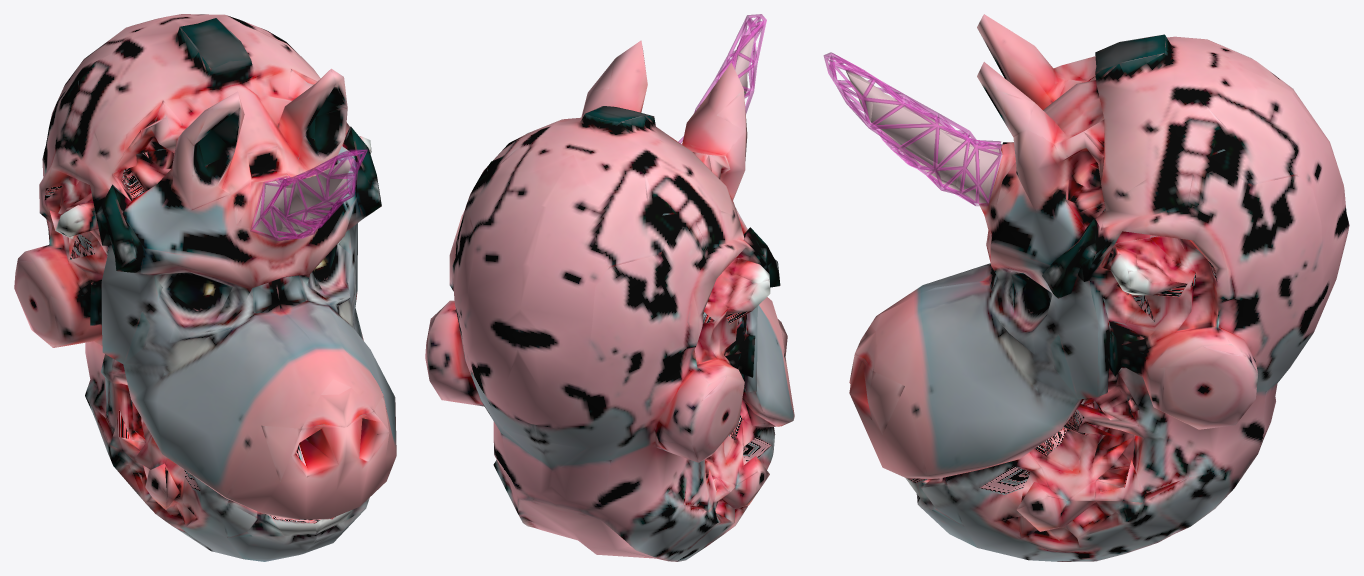
The model's file is Unibrowserloadicorn.glb.
3 views of the same model, side by side, from view 1: azimuth 30°, elevation 25°; view 2: azimuth 150°, elevation 25°; view 3: azimuth 270°, elevation 25° (orthographic). The views are drawn at different scales.
Visible parts, largest first — view 1: Mesh1.001, Mesh1.002; view 2: Mesh1.001, Mesh1.002; view 3: Mesh1.001, Mesh1.002.
Part boxes in pixels (<box>): Mesh1.001: <box>14,14,396,561</box>; Mesh1.002: <box>250,149,367,240</box>; Mesh1.001: <box>425,35,794,561</box>; Mesh1.002: <box>678,14,766,144</box>; Mesh1.001: <box>845,14,1349,561</box>; Mesh1.002: <box>823,52,1001,205</box>.
Bounding box in the file's own units: 1.28 × 1.89 × 1.78.
4 materials, 2 textured.
